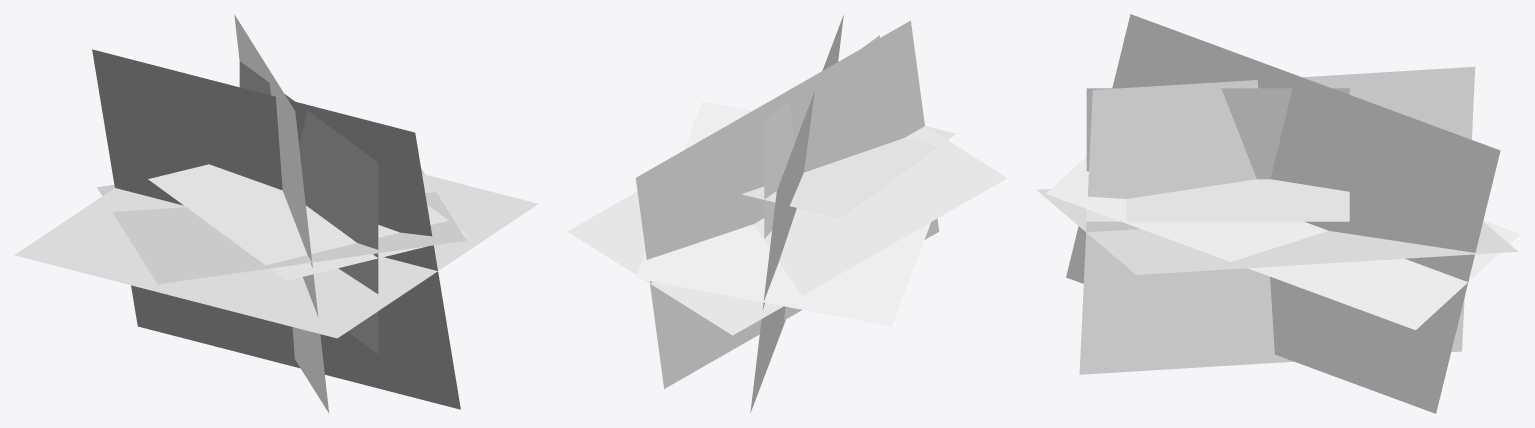
The model's file is skill_att_005.FBX.
3 renders of one model, left to right at view 1: azimuth 30°, elevation 25°; view 2: azimuth 150°, elevation 25°; view 3: azimuth 270°, elevation 25°, orthographic. The views are drawn at different scales.
Parts seen in each view (by area): view 1: Plane02, Plane01; view 2: Plane02, Plane01; view 3: Plane02, Plane01.
Part boxes in pixels (x1,y1,x2,y2): Plane02: (14, 14, 538, 413); Plane01: (148, 61, 469, 353); Plane02: (567, 15, 1007, 412); Plane01: (742, 35, 956, 238); Plane02: (1036, 14, 1520, 413); Plane01: (1086, 88, 1349, 221).
Size of the model in its own units: 2.81 by 3.19 by 2.45.
